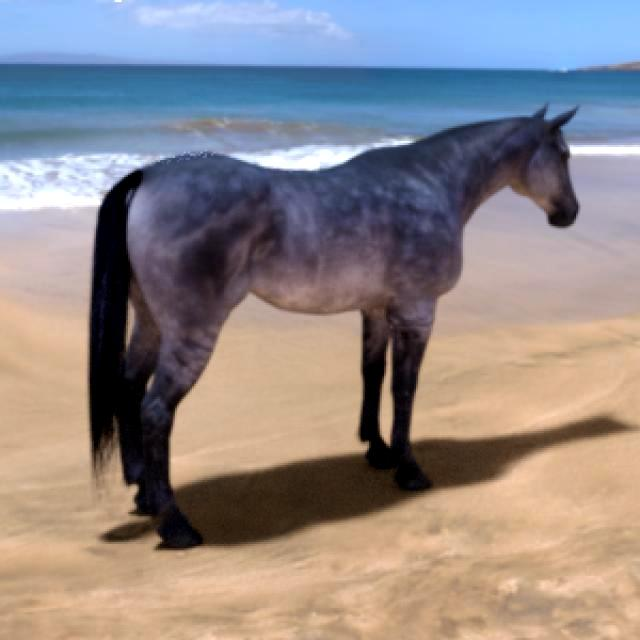horse: (92, 108, 579, 548)
